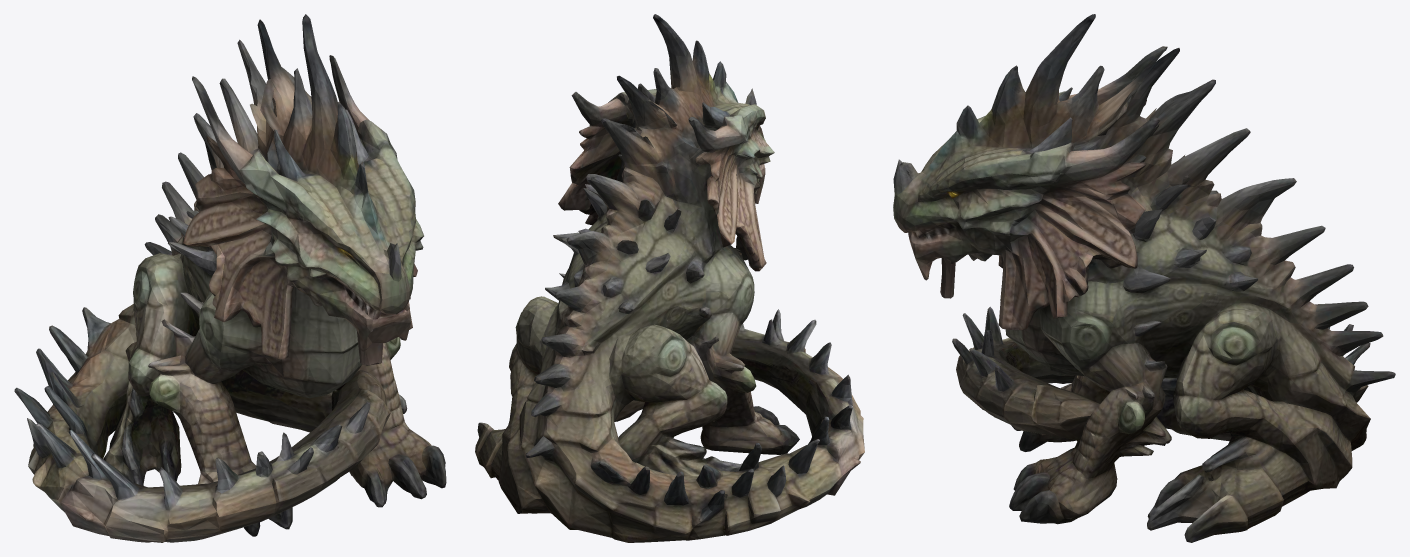
Rendered from thornbackDragonet.glb.
The picture shows the model from 3 angles, left to right: view 1: azimuth 30°, elevation 25°; view 2: azimuth 150°, elevation 25°; view 3: azimuth 270°, elevation 25°; orthographic projection. The views are drawn at different scales.
Parts seen in each view (by area): view 1: world; view 2: world; view 3: world.
Part boxes in pixels (box(x1,y1,x2,y2)): world: box(14, 14, 446, 542); world: box(475, 14, 864, 542); world: box(893, 14, 1395, 542).
Size of the model in its own units: 0.8242 by 0.9969 by 0.9765.
1 material, 1 textured.
